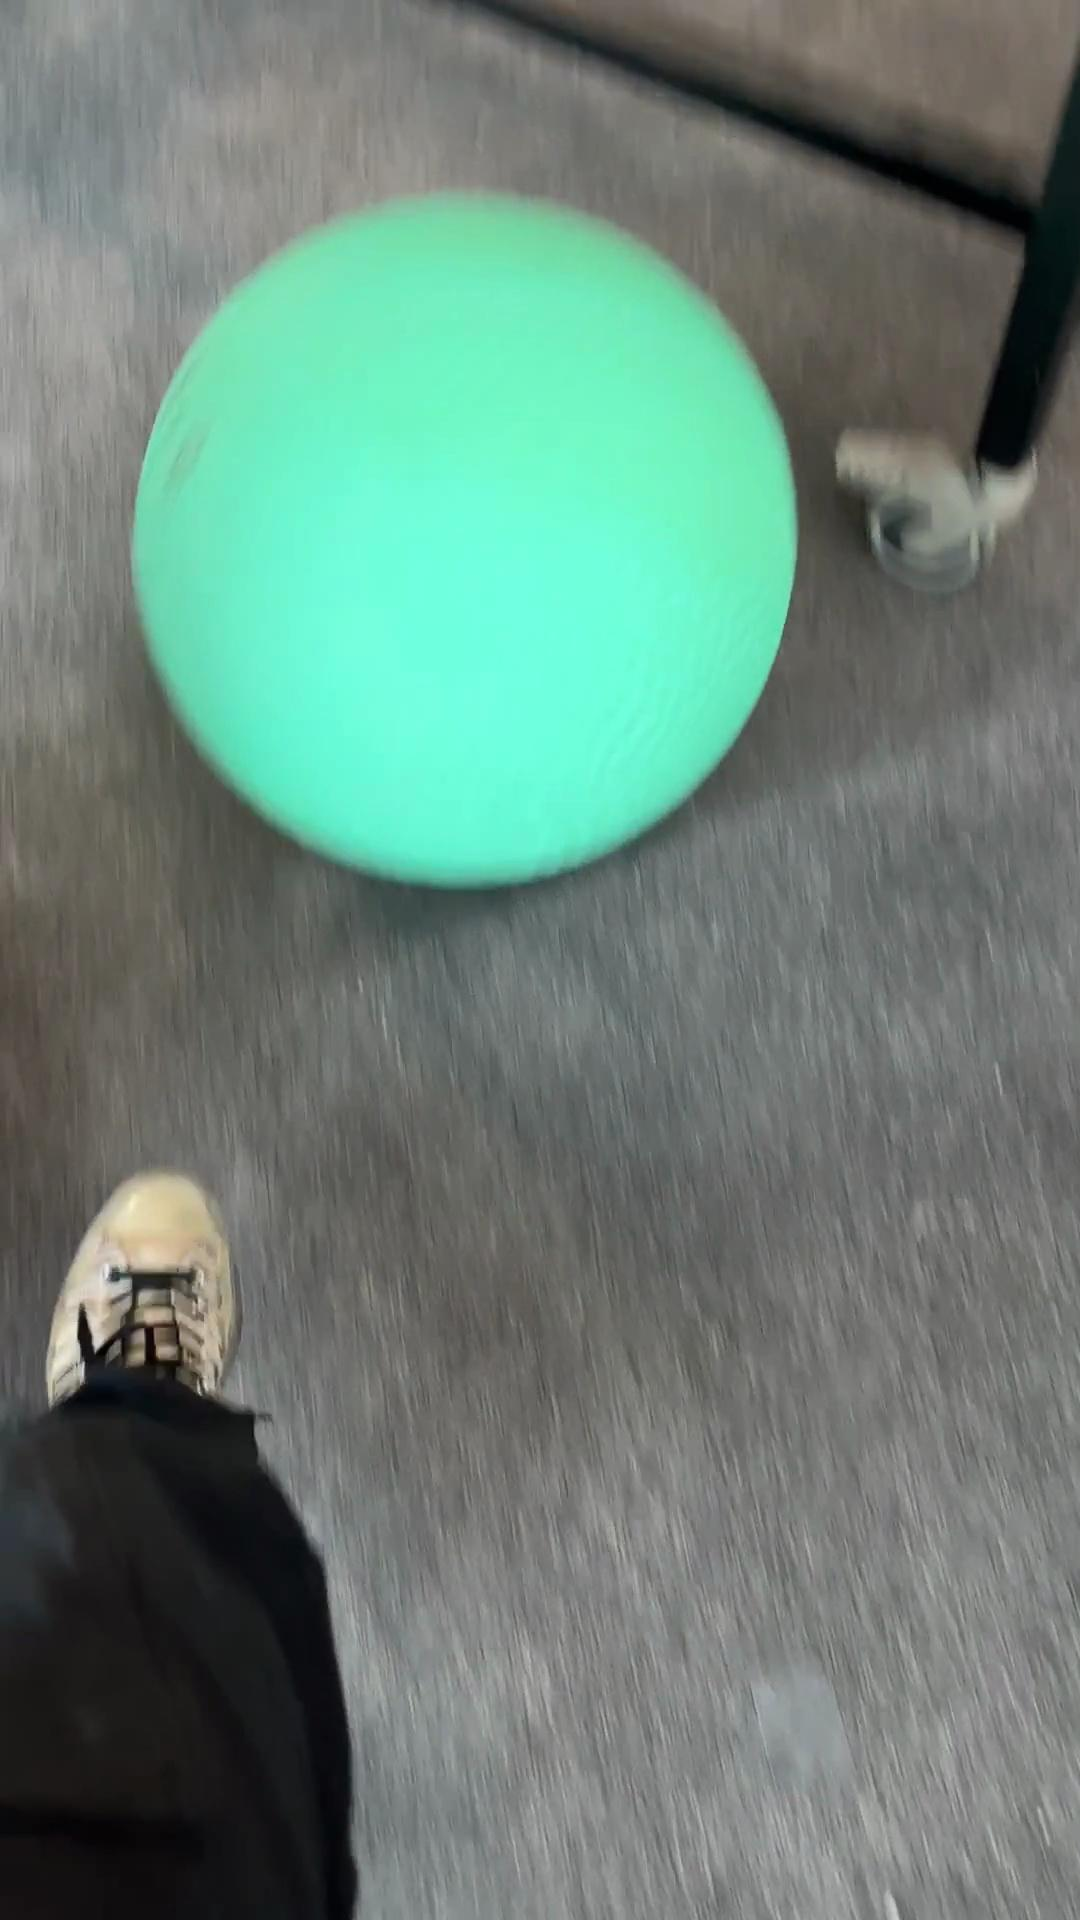ALGAE: (128, 187, 800, 891)
